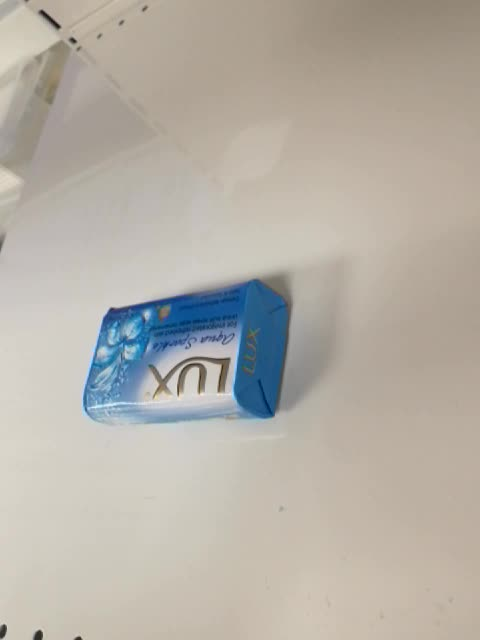soap: (81, 277, 291, 428)
